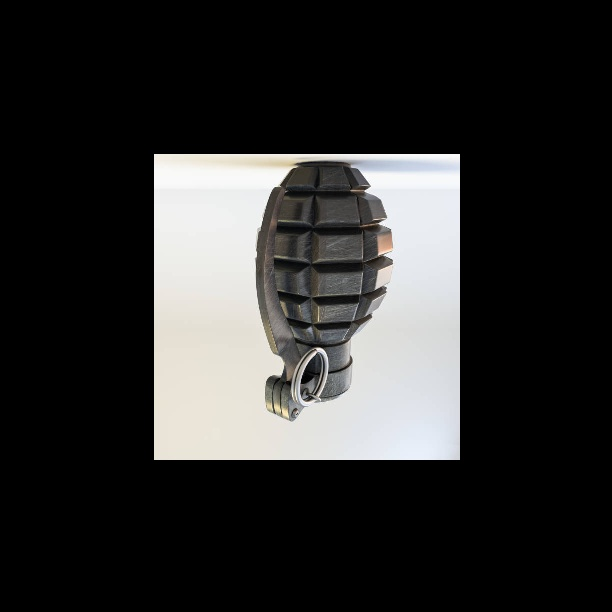e1: (253, 158, 394, 420)
